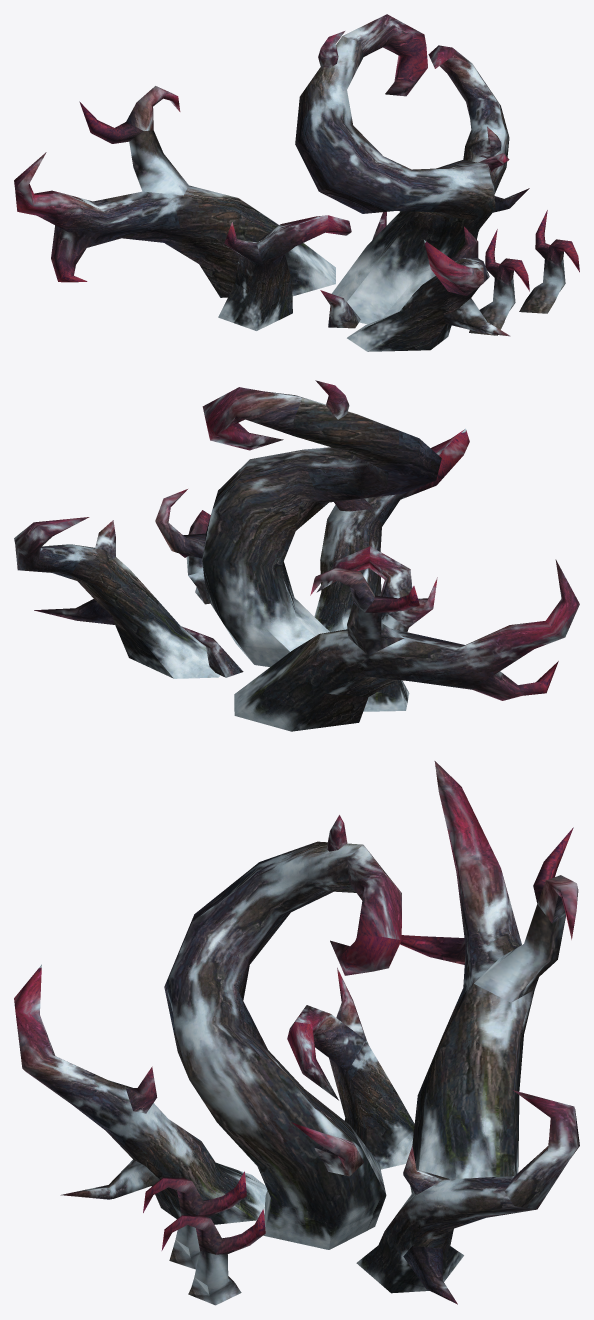
The model's file is f_1134_shu1.FBX.
The picture shows the model from 3 angles, top to bottom: view 1: azimuth 30°, elevation 25°; view 2: azimuth 150°, elevation 25°; view 3: azimuth 270°, elevation 25°; orthographic projection. The views are drawn at different scales.
Parts seen in each view (by area): view 1: 谢树05雪, Object002, Object001, Object003; view 2: 谢树05雪, Object002, Object001, Object003; view 3: 谢树05雪, Object002, Object001, Object003.
Part boxes in pixels (bbox=[...]): 谢树05雪: bbox=[295, 14, 529, 351]; Object002: bbox=[14, 86, 351, 330]; Object001: bbox=[372, 45, 529, 240]; Object003: bbox=[519, 210, 579, 313]; 谢树05雪: bbox=[155, 380, 469, 666]; Object002: bbox=[234, 546, 579, 731]; Object001: bbox=[14, 517, 243, 678]; Object003: bbox=[179, 510, 210, 604]; 谢树05雪: bbox=[14, 815, 401, 1269]; Object002: bbox=[287, 761, 578, 1193]; Object001: bbox=[356, 1090, 579, 1304]; Object003: bbox=[161, 1209, 265, 1305].
Size of the model in its own units: 1454 by 748 by 1016.
